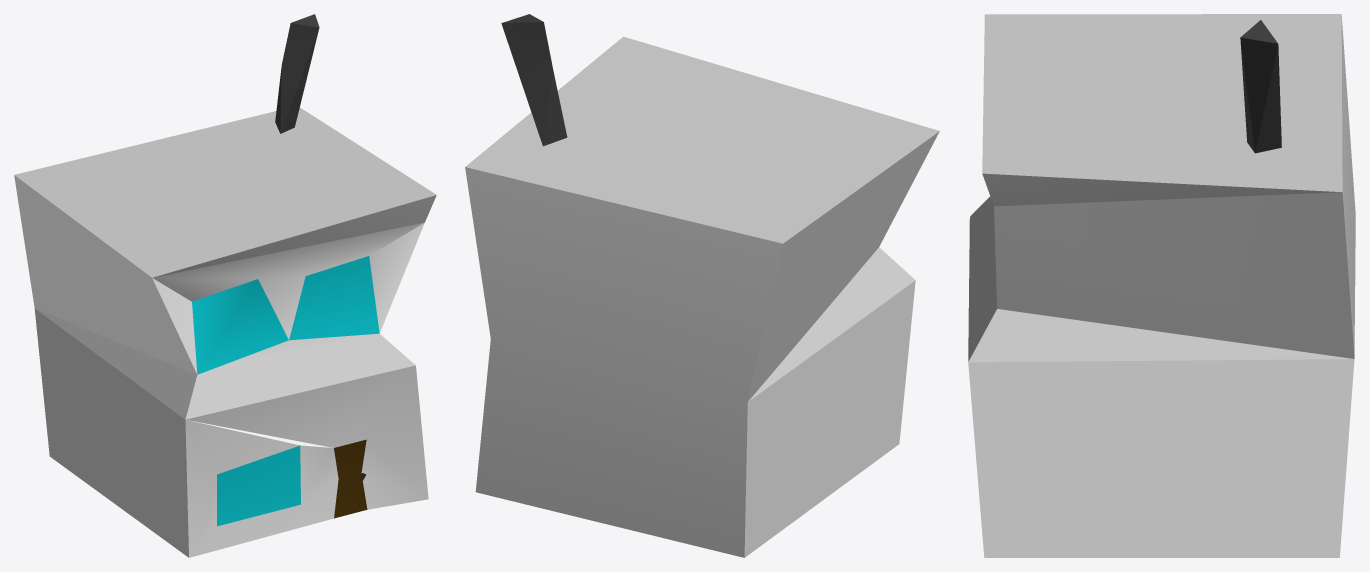
File: PredioPequeno-BrancoLOD2.fbx
3 views of the same model, side by side, from view 1: azimuth 30°, elevation 25°; view 2: azimuth 150°, elevation 25°; view 3: azimuth 270°, elevation 25° (orthographic). The views are drawn at different scales.
Parts seen in each view (by area): view 1: Predio2AndaresLOD2; view 2: Predio2AndaresLOD2; view 3: Predio2AndaresLOD2.
Part boxes in pixels (<box>): Predio2AndaresLOD2: <box>14,14,436,557</box>; Predio2AndaresLOD2: <box>465,14,939,557</box>; Predio2AndaresLOD2: <box>968,14,1355,557</box>.
Bounding box in the file's own units: 718 × 975 × 660.
